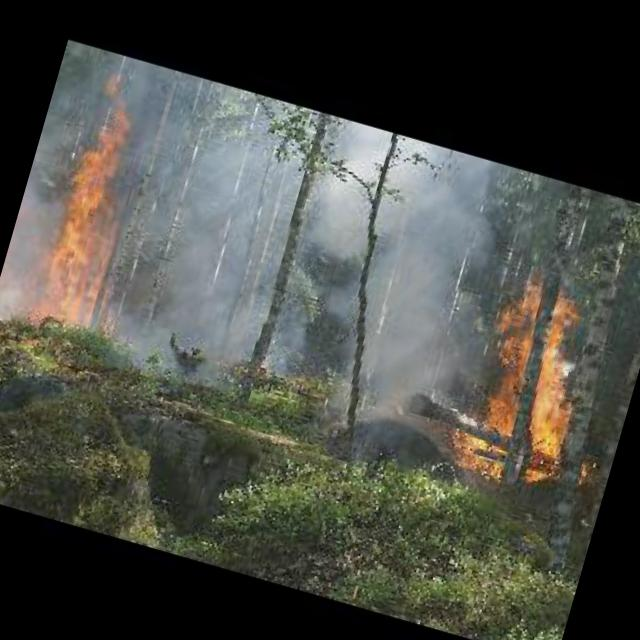fire: (0, 47, 192, 365), (435, 242, 640, 515)
